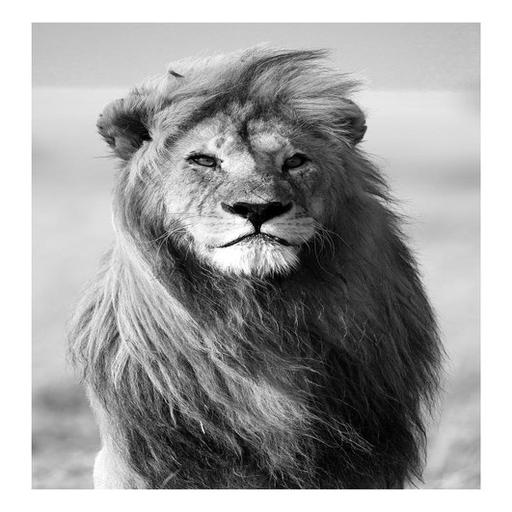Lion: (63, 43, 449, 488)
